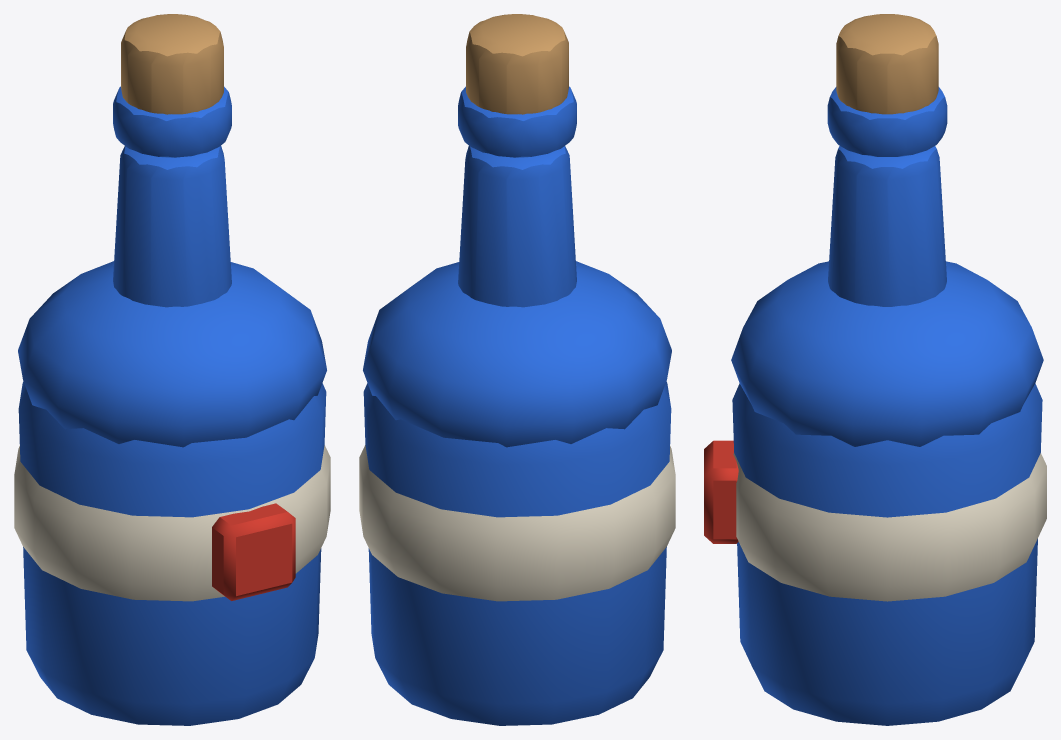
The model's file is RumBottle.fbx.
3 renders of one model, left to right at view 1: azimuth 30°, elevation 25°; view 2: azimuth 150°, elevation 25°; view 3: azimuth 270°, elevation 25°, orthographic.
Visible parts, largest first — view 1: RumBottle; view 2: RumBottle; view 3: RumBottle.
Part boxes in pixels (x1,y1,x2,y2): RumBottle: (14, 14, 330, 725); RumBottle: (359, 14, 675, 725); RumBottle: (704, 14, 1046, 725).
Size of the model in its own units: 0.153 by 0.345 by 0.1645.
